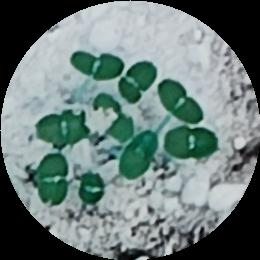Basil: (115, 62, 164, 101), (118, 133, 156, 183), (39, 156, 70, 209), (91, 98, 132, 138), (168, 125, 217, 158), (40, 113, 91, 141), (163, 82, 195, 121), (76, 52, 118, 81), (76, 173, 108, 209)
